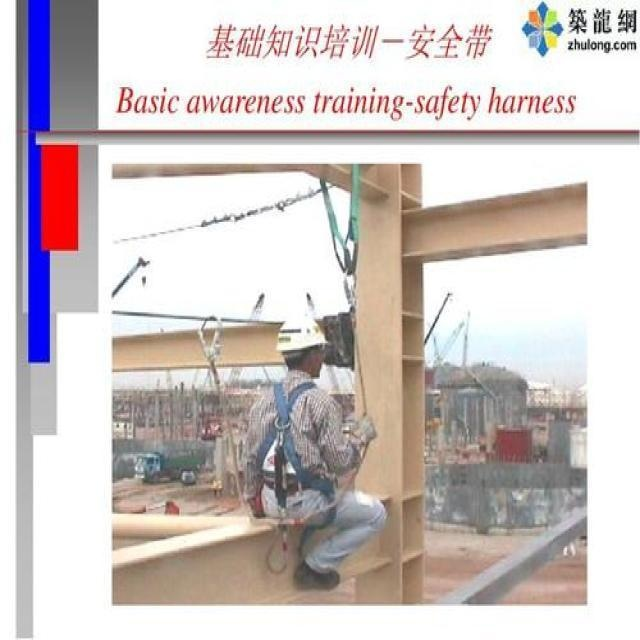Arnes_seguridad: (250, 372, 337, 514)
